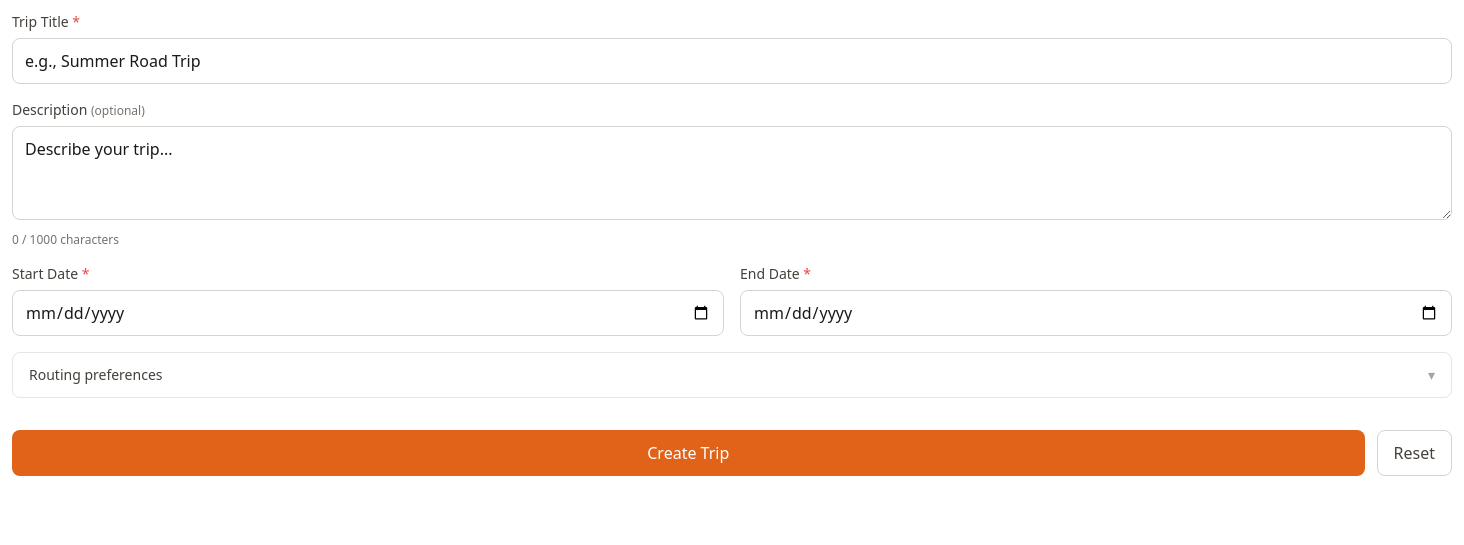
it: TripForm Component › Client-side Validation › should show error when title is missing
The width and height of the screenshot is (1464, 545).
Click the button "Create Trip".
click(688, 453)  # box [12,430,1364,476]
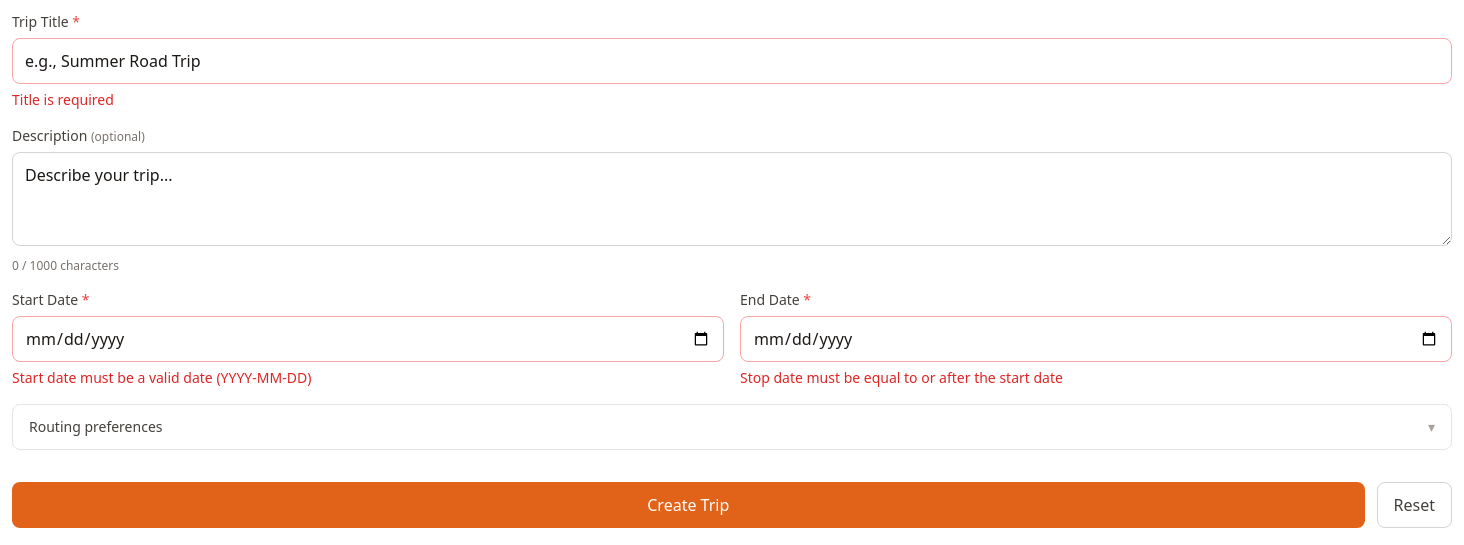
Expected: the text "Title is required" is shown, [12,90,114,109]
